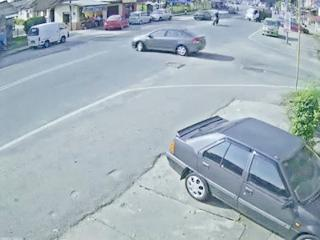Car: (187, 114, 320, 234), (134, 28, 205, 55), (29, 22, 70, 46), (104, 15, 128, 29), (248, 8, 272, 22), (262, 16, 277, 36), (130, 13, 151, 25), (152, 10, 170, 21), (195, 12, 210, 21)
Motor: (212, 12, 220, 27)
